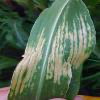Corn leaf blight: (15, 2, 97, 98)
